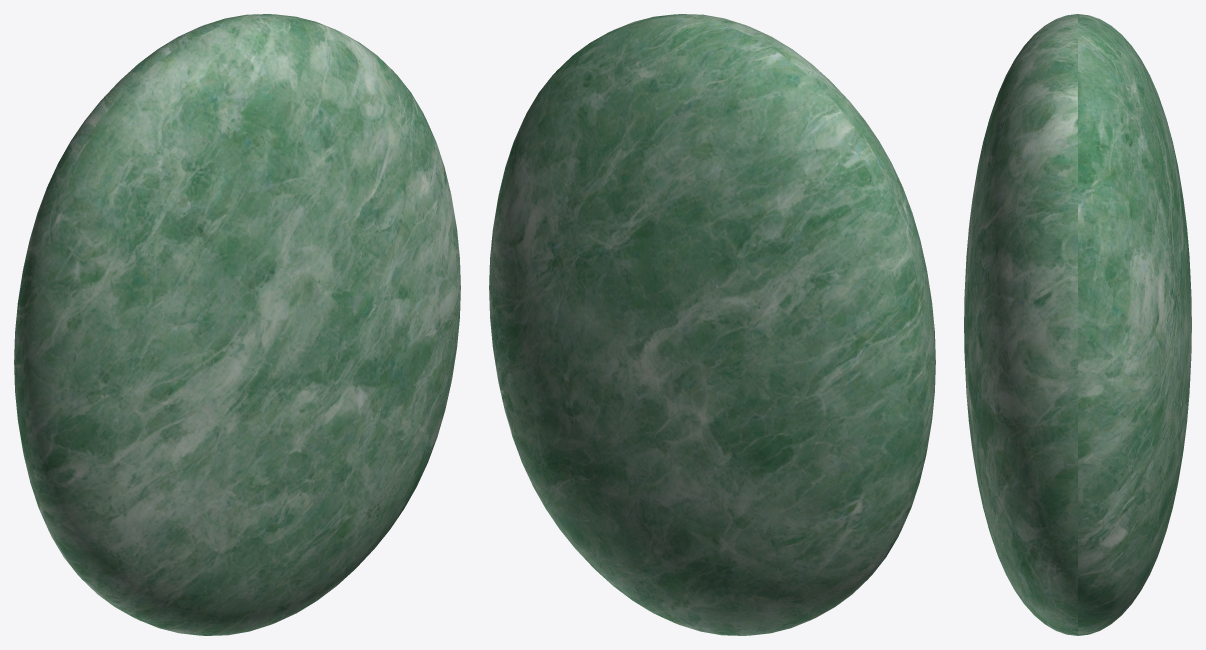
The model's file is Peridot (Cryzolite).fbx.
3 views of the same model, side by side, from view 1: azimuth 30°, elevation 25°; view 2: azimuth 150°, elevation 25°; view 3: azimuth 270°, elevation 25° (orthographic). The views are drawn at different scales.
Parts seen in each view (by area): view 1: Peridot (Cryzolite); view 2: Peridot (Cryzolite); view 3: Peridot (Cryzolite).
Boxes of the visible parts, box(x1,y1,x2,y2) form: Peridot (Cryzolite): box(14, 14, 460, 635); Peridot (Cryzolite): box(489, 14, 935, 635); Peridot (Cryzolite): box(964, 14, 1191, 635).
Bounding box in the file's own units: 0.1398 × 0.1893 × 0.0666.
Materials: 1 (1 with a texture image).
